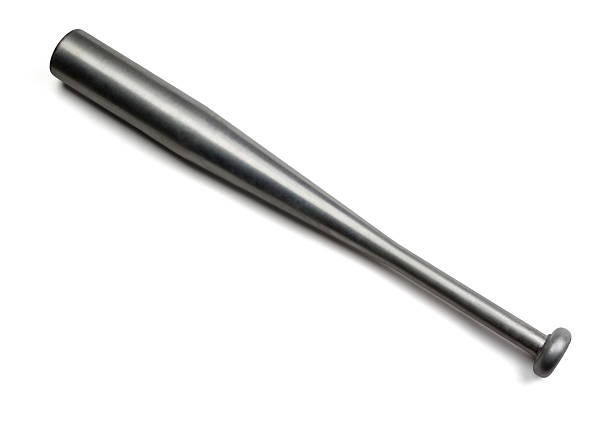bita: (41, 25, 563, 370)
